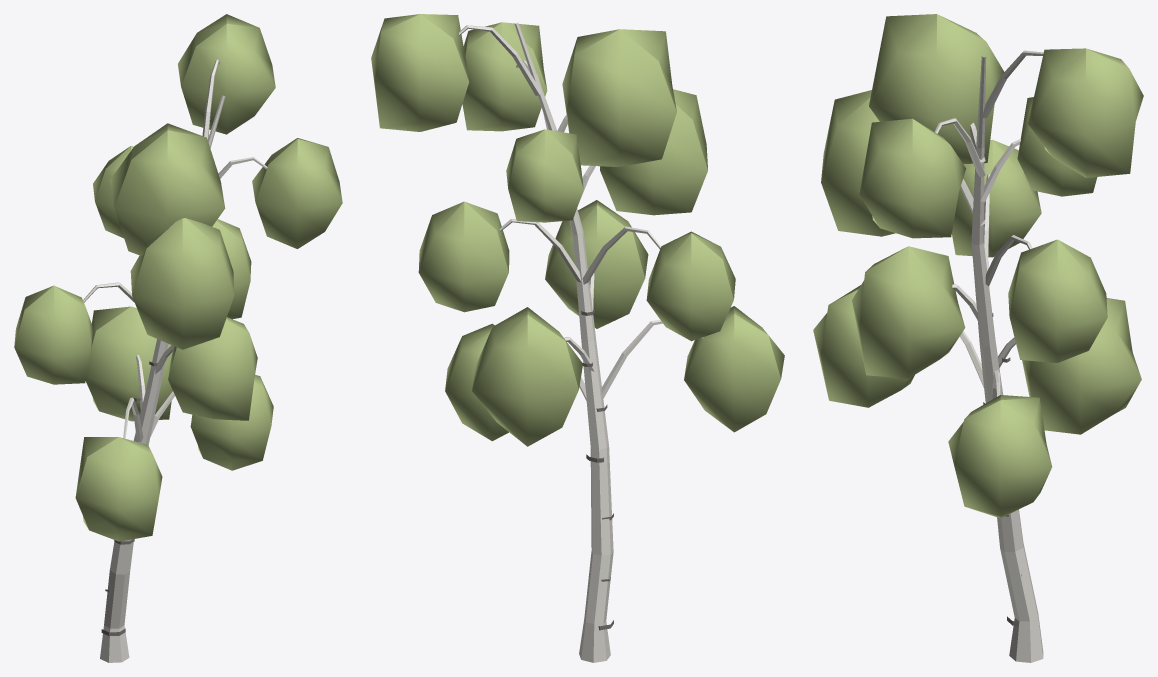
File: birch-old.glb
3 views of the same model, side by side, from view 1: azimuth 30°, elevation 25°; view 2: azimuth 150°, elevation 25°; view 3: azimuth 270°, elevation 25° (orthographic). The views are drawn at different scales.
Visible parts, largest first — view 1: birch-old; view 2: birch-old; view 3: birch-old.
Boxes of the visible parts, x1,y1,x2,y2 form: birch-old: [14, 14, 342, 662]; birch-old: [371, 14, 784, 662]; birch-old: [813, 14, 1143, 662].
Bounding box in the file's own units: 7 × 13.07 × 5.71.
